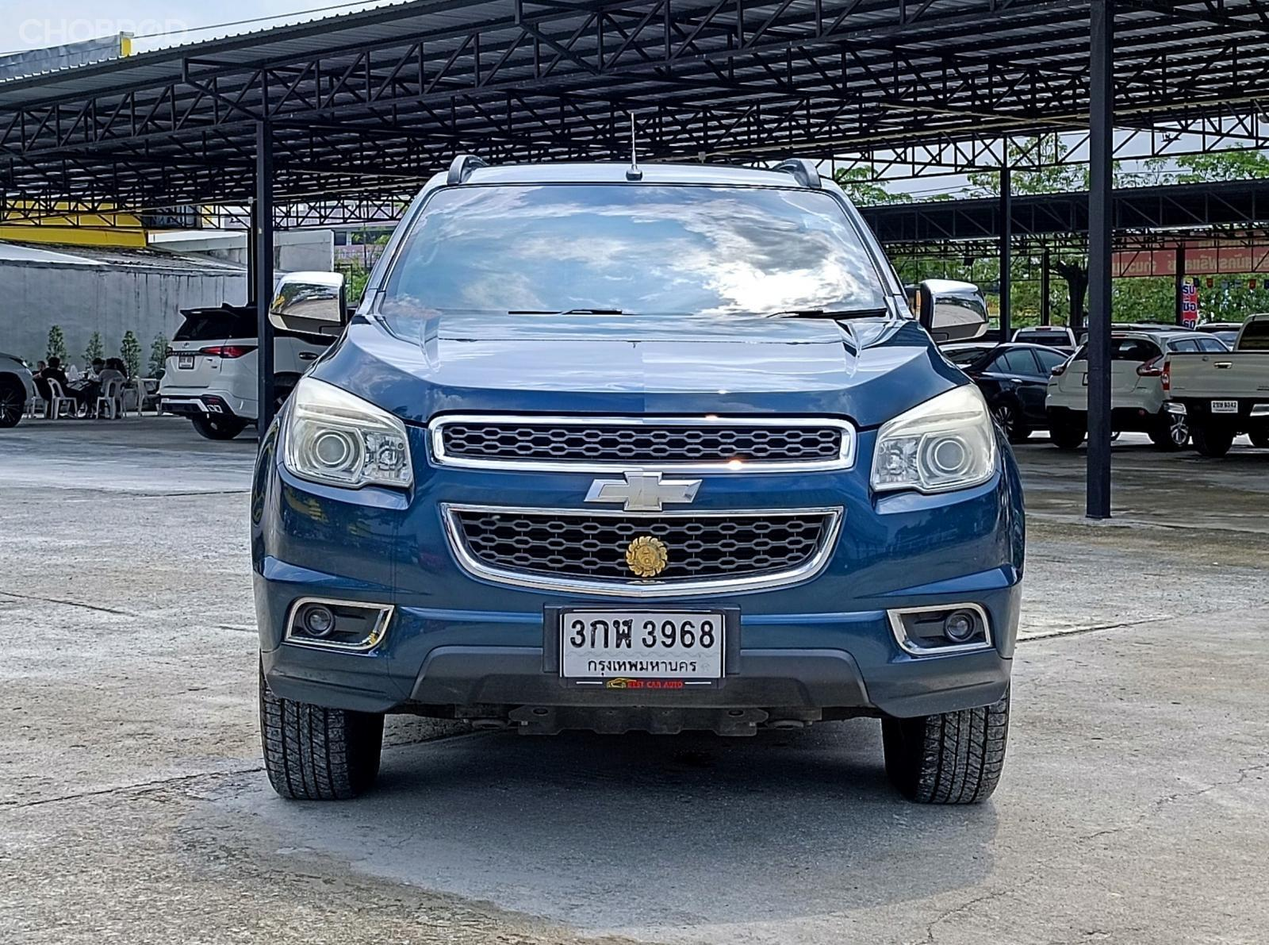license-plate: (542, 604, 738, 689)
